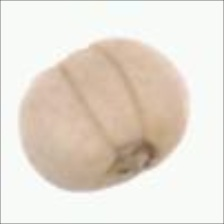L5: (50, 40, 144, 152), (96, 131, 162, 181)
L6: (14, 34, 192, 197)
